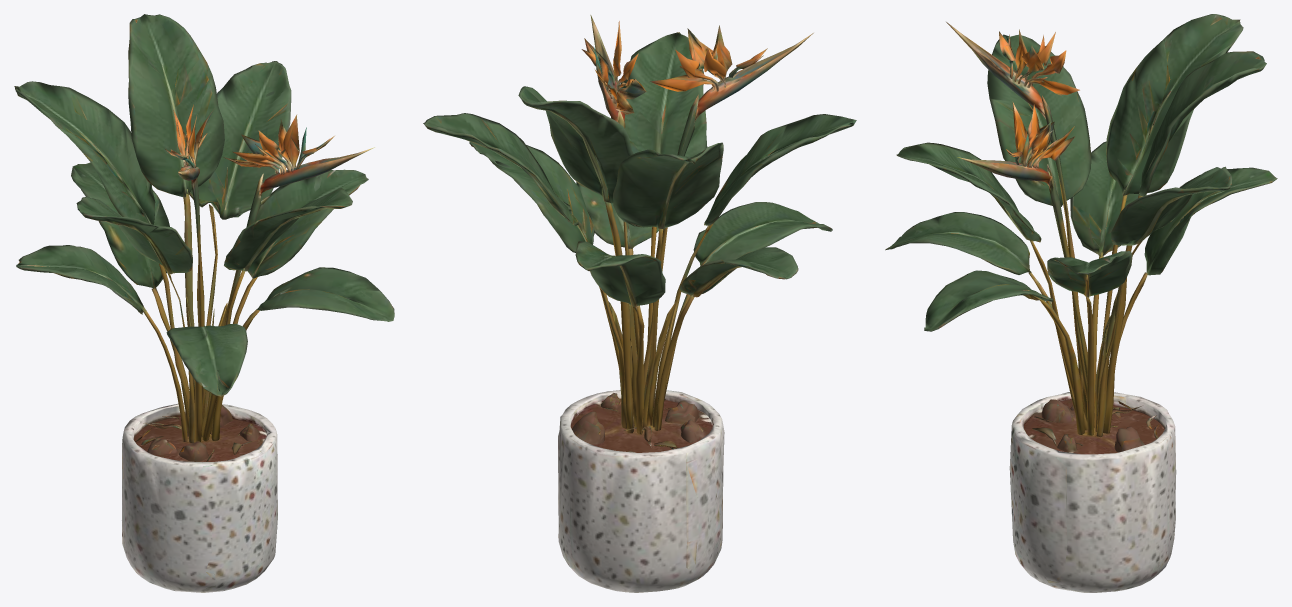
File: plant_bird_of_paradise.glb
3 views of the same model, side by side, from view 1: azimuth 30°, elevation 25°; view 2: azimuth 150°, elevation 25°; view 3: azimuth 270°, elevation 25° (orthographic). The views are drawn at different scales.
Parts seen in each view (by area): view 1: prop; view 2: prop; view 3: prop.
Part boxes in pixels (left/top/right/bottom): prop: left=14, top=14, right=394, bottom=592; prop: left=423, top=15, right=856, bottom=592; prop: left=885, top=14, right=1277, bottom=592.
Size of the model in its own units: 1.08 by 1.55 by 1.06.
Materials: 1 (1 with a texture image).
